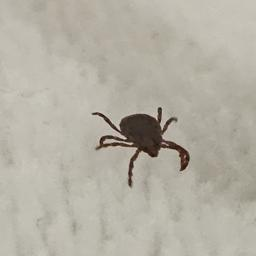Rhipicephalus sanguineus: (92, 106, 191, 188)
